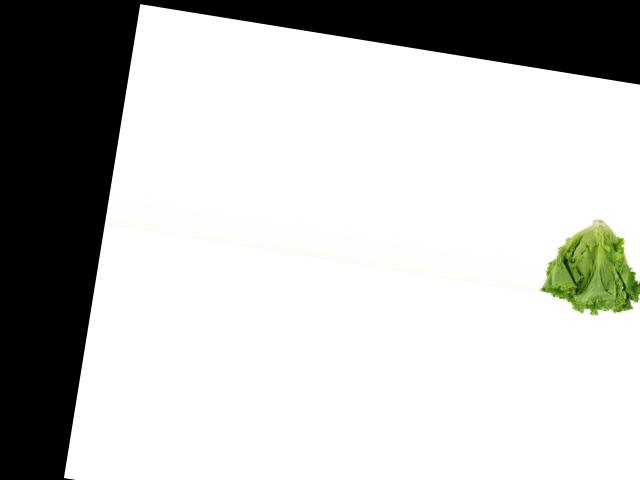lettuce: (535, 209, 640, 326)
